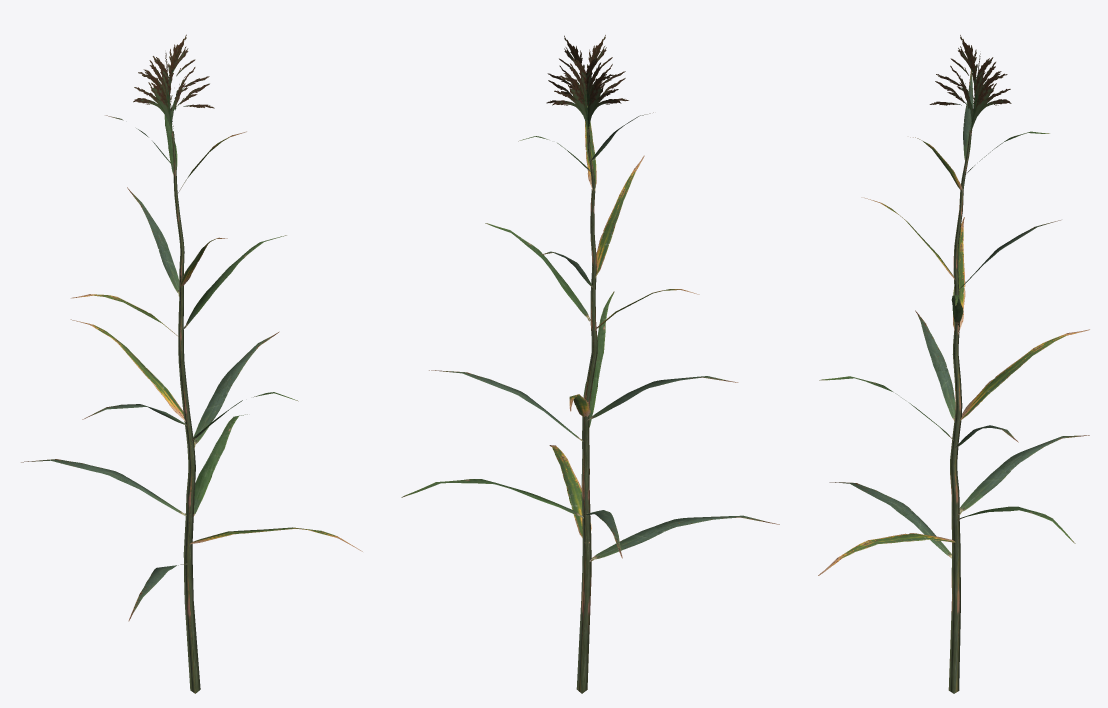
File: valley-reed-1.glb
The picture shows the model from 3 angles, left to right: view 1: azimuth 30°, elevation 25°; view 2: azimuth 150°, elevation 25°; view 3: azimuth 270°, elevation 25°; orthographic projection. The views are drawn at different scales.
Visible parts, largest first — view 1: valley-reed-1; view 2: valley-reed-1; view 3: valley-reed-1.
Boxes of the visible parts, x1,y1,x2,y2 form: valley-reed-1: (21,34,362,693); valley-reed-1: (401,35,779,693); valley-reed-1: (818,35,1089,693).
Size of the model in its own units: 0.7286 by 1.8 by 0.6887.
2 materials, 2 textured.
